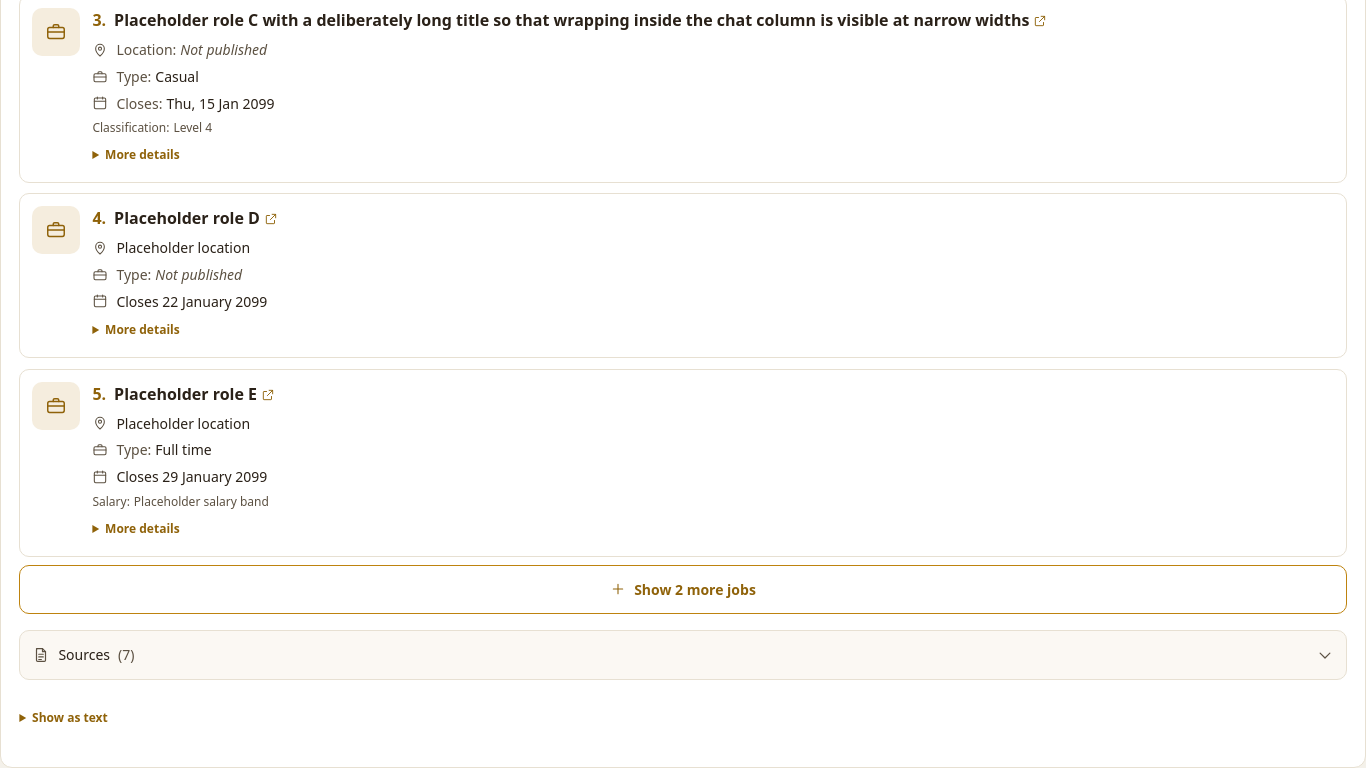
it: AssistantTurn with backend result items › renders the Jobs items as one numbered list in backend order, bounded with Show more
This screenshot has width=1366, height=768.
(page scrolled)
Check: the link "Placeholder role E" is shown, box x1=114 y1=384 x2=275 y2=404
Click the button "Show 2 more jobs". click: (683, 590)
box: x1=19 y1=565 x2=1347 y2=614
(page scrolled)
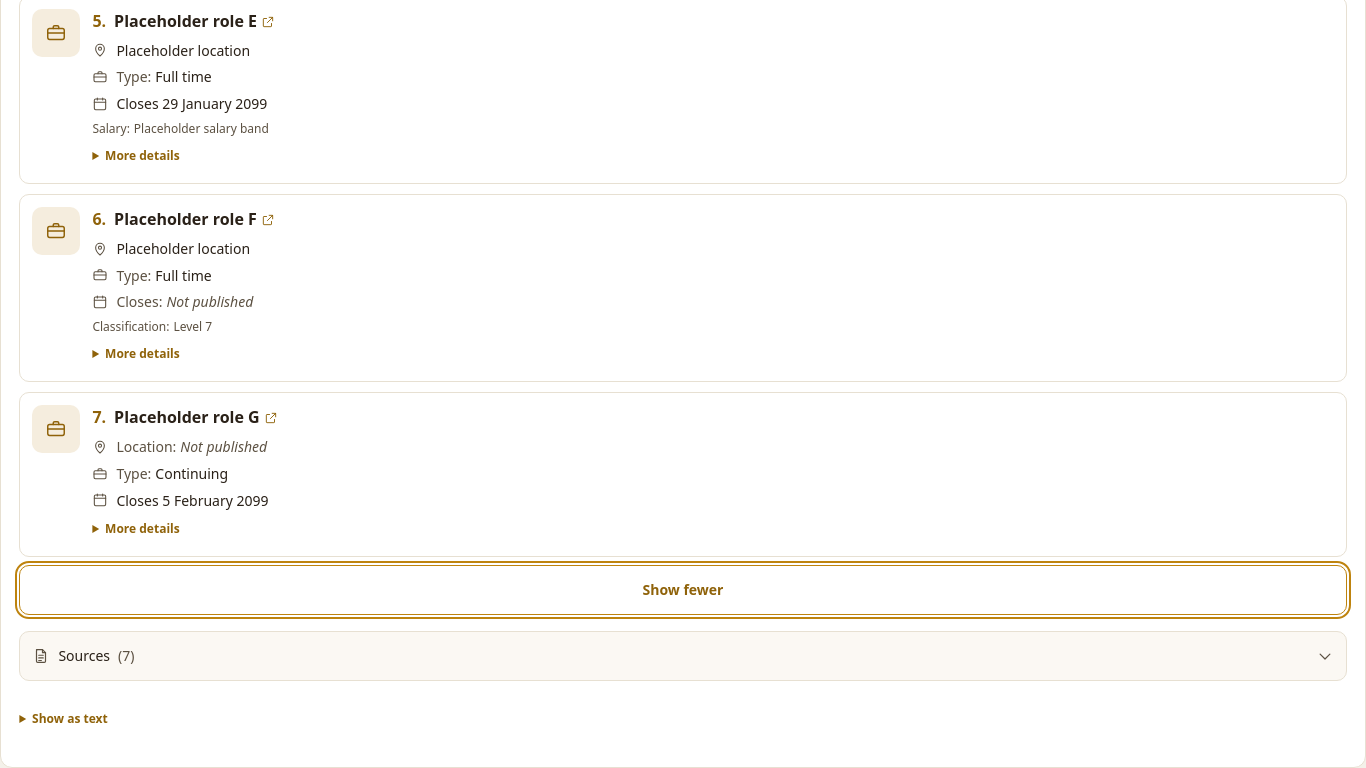
Check: the button "Show fewer" is expanded, box x1=19 y1=565 x2=1347 y2=615
